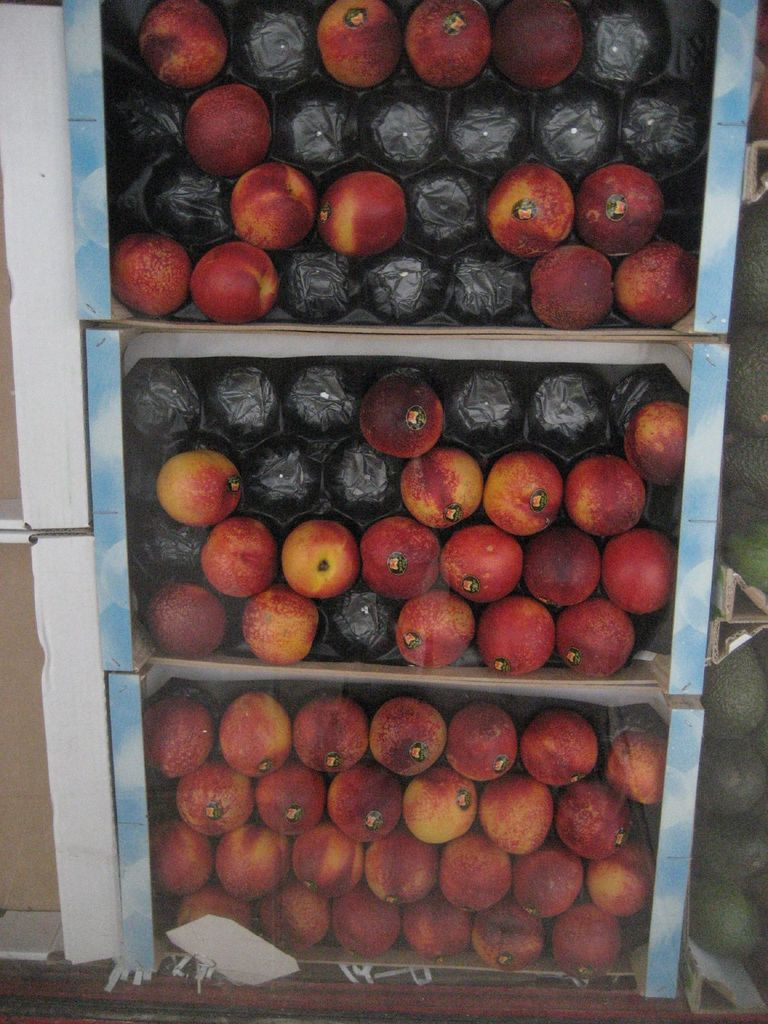Apple: (106, 0, 693, 329), (140, 369, 691, 677), (142, 693, 661, 979), (222, 153, 327, 230)
